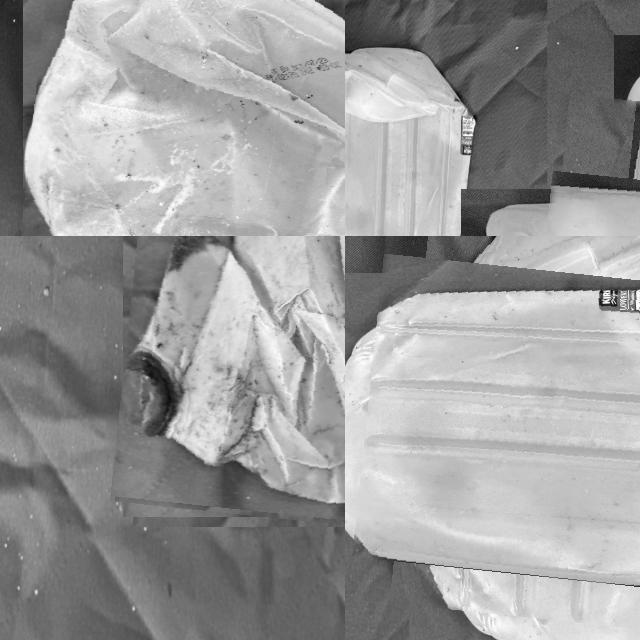milk-jug: (357, 236, 640, 629), (22, 0, 345, 236), (119, 236, 345, 531), (345, 35, 486, 236), (528, 102, 640, 236)
